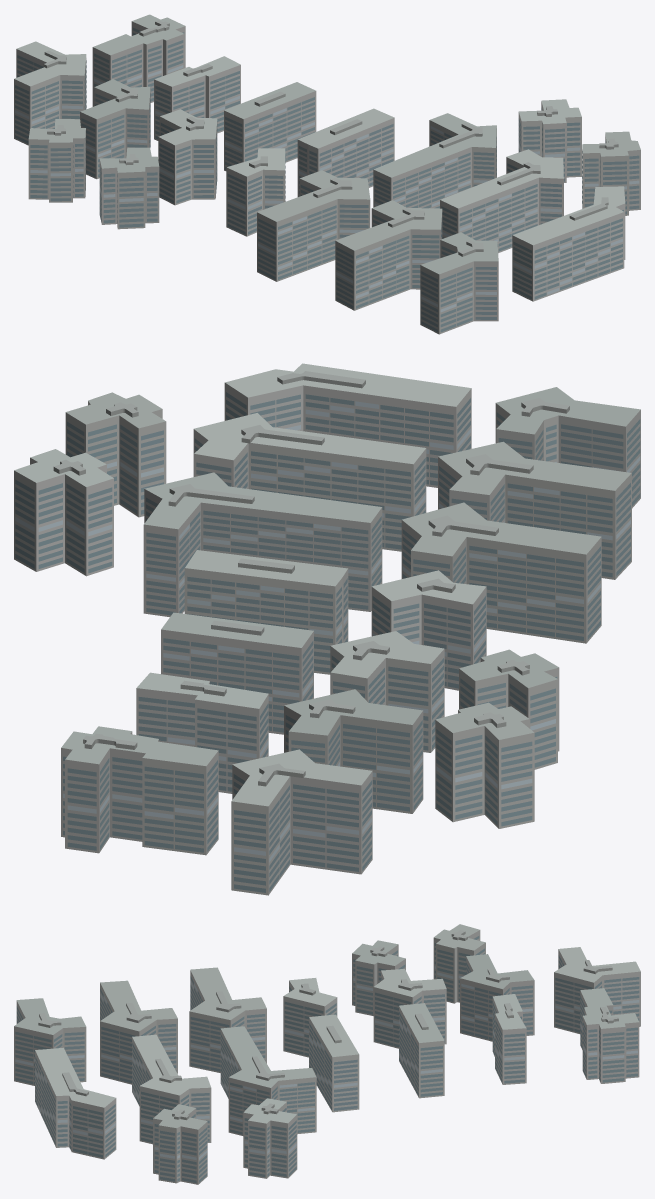
The model's file is apt-a15279101.glb.
3 renders of one model, top to bottom at view 1: azimuth 30°, elevation 25°; view 2: azimuth 150°, elevation 25°; view 3: azimuth 270°, elevation 25°, orthographic. The views are drawn at different scales.
Visible parts, largest first — view 1: apt-a15279101; view 2: apt-a15279101; view 3: apt-a15279101.
Boxes of the visible parts, x1,y1,x2,y2 form: apt-a15279101: (14,14,640,334); apt-a15279101: (14,363,640,895); apt-a15279101: (14,924,640,1184).
Size of the model in its own units: 252 by 33 by 324.
